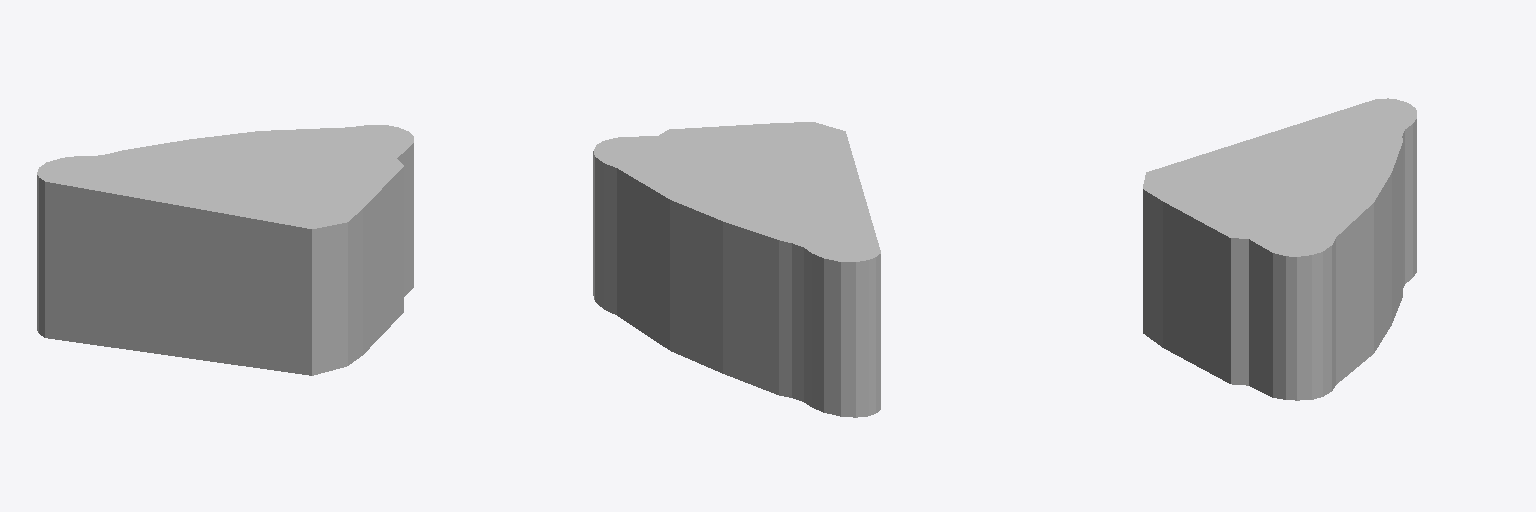
File: Panorama.obj
3 views of the same model, side by side, from view 1: azimuth 30°, elevation 25°; view 2: azimuth 150°, elevation 25°; view 3: azimuth 270°, elevation 25° (orthographic).
Visible parts, largest first — view 1: Areas:building.015; view 2: Areas:building.015; view 3: Areas:building.015.
Boxes of the visible parts, box(x1,y1,x2,y2) form: Areas:building.015: box(37, 125, 413, 375); Areas:building.015: box(593, 122, 880, 417); Areas:building.015: box(1143, 98, 1416, 400).
Bounding box in the file's own units: 85.85 × 39.53 × 62.93.